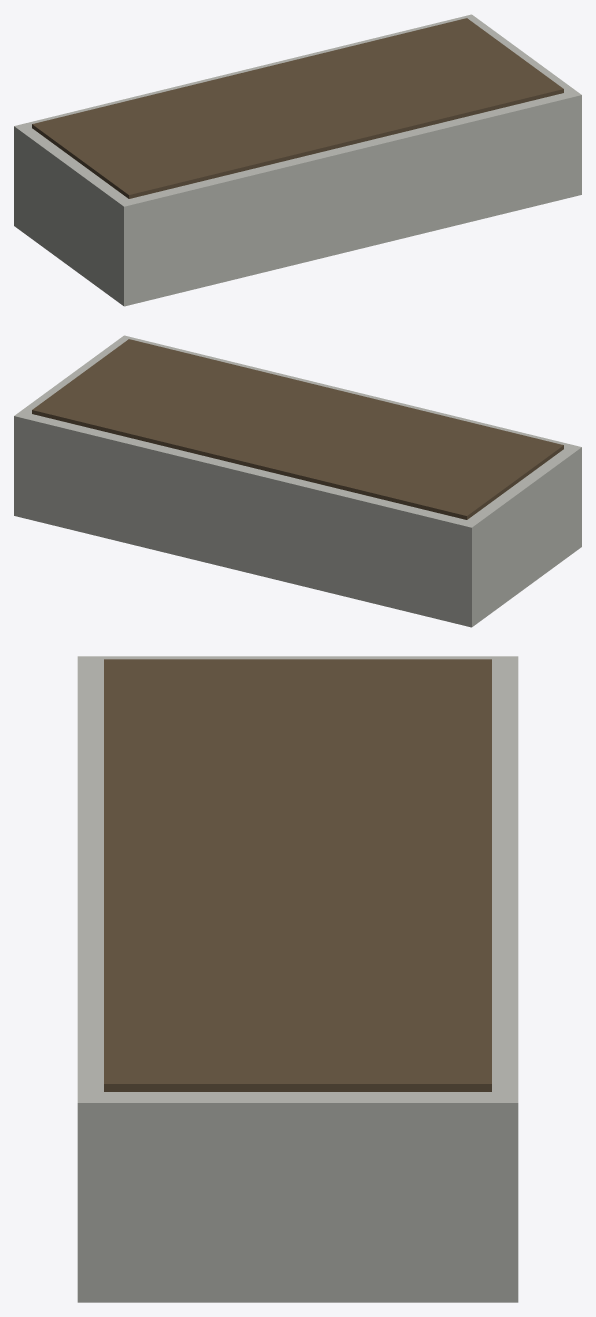
File: Planter.fbx
The picture shows the model from 3 angles, top to bottom: view 1: azimuth 30°, elevation 25°; view 2: azimuth 150°, elevation 25°; view 3: azimuth 270°, elevation 25°; orthographic projection. The views are drawn at different scales.
Visible parts, largest first — view 1: Planter.047; view 2: Planter.047; view 3: Planter.047.
Part boxes in pixels (x1,y1,x2,y2): Planter.047: (14, 14, 581, 306); Planter.047: (14, 335, 581, 627); Planter.047: (77, 656, 518, 1302).
Size of the model in its own units: 2.4 by 0.52 by 1.
